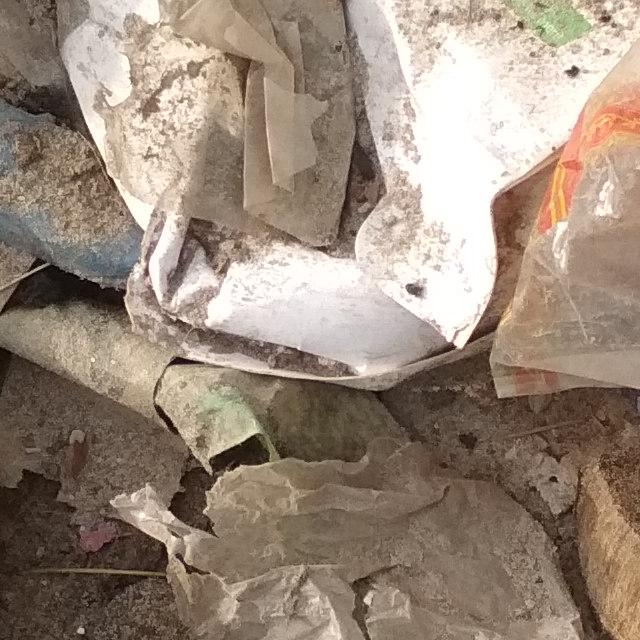plastic: (465, 0, 640, 493)
